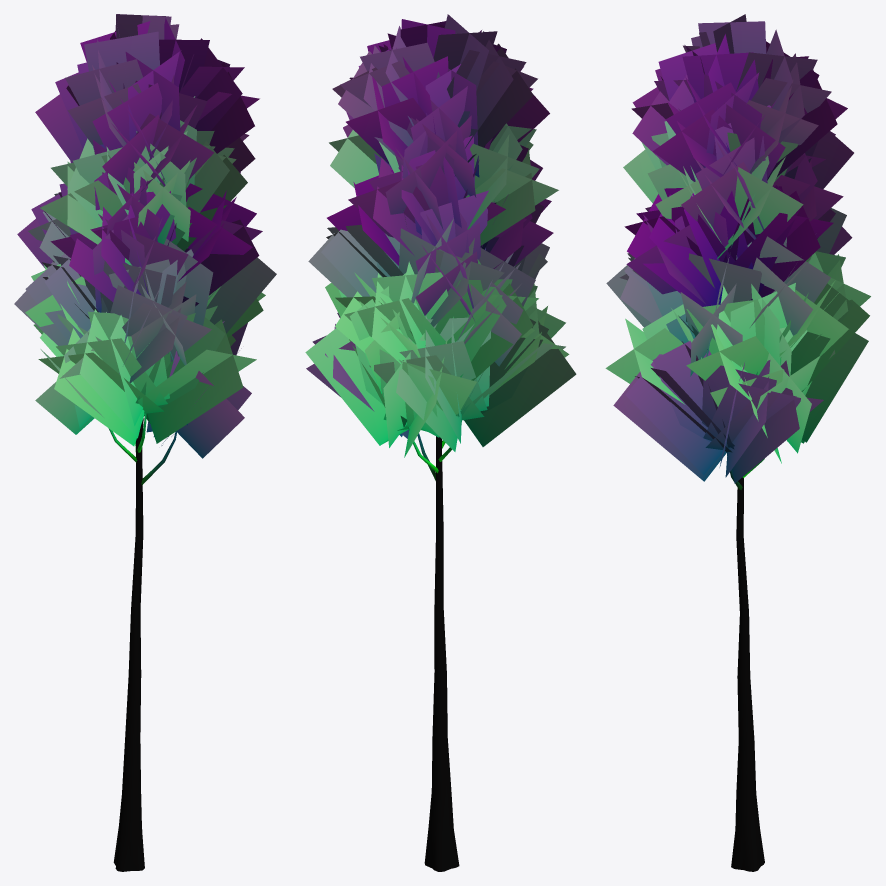
File: Tree_9_7.fbx
The picture shows the model from 3 angles, left to right: view 1: azimuth 30°, elevation 25°; view 2: azimuth 150°, elevation 25°; view 3: azimuth 270°, elevation 25°; orthographic projection.
Parts seen in each view (by area): view 1: _7; view 2: _7; view 3: _7.
Part boxes in pixels (x1,y1,x2,y2): _7: [14, 14, 276, 871]; _7: [305, 14, 576, 871]; _7: [605, 14, 870, 871].
Bounding box in the file's own units: 668 × 2227 × 639.
